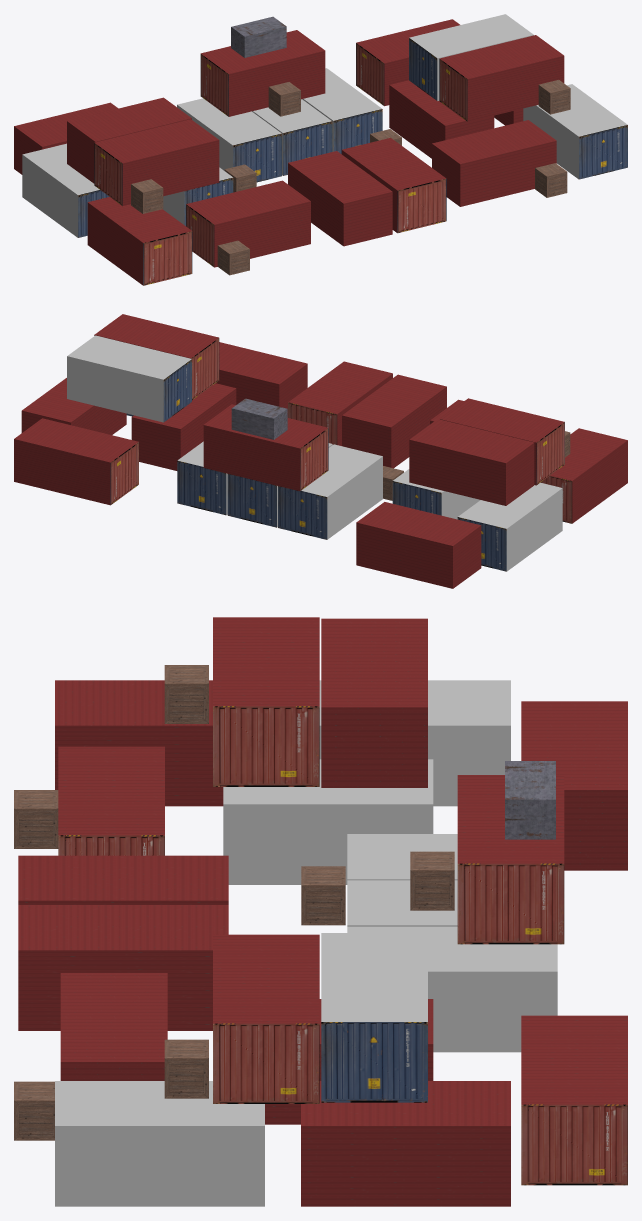
File: Containers101.fbx
3 views of the same model, one above another, from view 1: azimuth 30°, elevation 25°; view 2: azimuth 150°, elevation 25°; view 3: azimuth 270°, elevation 25° (orthographic). The views are drawn at different scales.
Parts seen in each view (by area): view 1: Cube.017, Cube.018, Cube.009, Cube.014, Cube.032, Cube.012, Cube.008, Cube.019, Cube.010, Cube.013, Cube.030, Cube.015 (+14 smaller); view 2: Cube.016, Cube.002, Cube.001, Cube.015, Cube.032, Cube.030, Cube.012, Cube.013, Cube.008, Cube.007, Cube.018, Cube.009 (+8 smaller); view 3: Cube.019, Cube.011, Cube.010, Cube.001, Cube.016, Cube.018, Cube.015, Cube.017, Cube.005, Cube.032, Cube.028, Cube.002 (+15 smaller).
Boxes of the visible parts, x1,y1,x2,y2 form: Cube.017: (439,35,564,121); Cube.018: (94,119,219,206); Cube.009: (432,120,556,206); Cube.014: (186,180,310,267); Cube.032: (200,30,325,116); Cube.012: (288,151,392,246); Cube.008: (87,197,192,285); Cube.019: (523,84,627,179); Cube.010: (341,137,446,233); Cube.013: (22,143,109,237); Cube.030: (177,98,281,182); Cube.015: (409,14,533,100); Cube.016: (409,419,534,505); Cube.002: (356,502,481,588); Cube.001: (14,418,138,505); Cube.015: (67,335,191,422); Cube.032: (203,404,328,491); Cube.030: (278,444,382,539); Cube.012: (342,374,446,468); Cube.013: (457,482,562,571); Cube.008: (541,428,627,523); Cube.007: (131,383,236,470); Cube.018: (440,398,564,485); Cube.009: (216,342,307,417); Cube.019: (55,1081,264,1206); Cube.011: (301,1081,510,1206); Cube.010: (18,905,228,1030); Cube.001: (521,1015,627,1185); Cube.016: (321,618,427,787); Cube.018: (213,617,319,786); Cube.015: (321,933,427,1102); Cube.017: (213,934,319,1103); Cube.005: (223,759,433,884); Cube.032: (457,775,564,944); Cube.028: (347,926,557,1052); Cube.002: (521,701,627,870).
Size of the model in its own units: 2369 by 504 by 1380.
